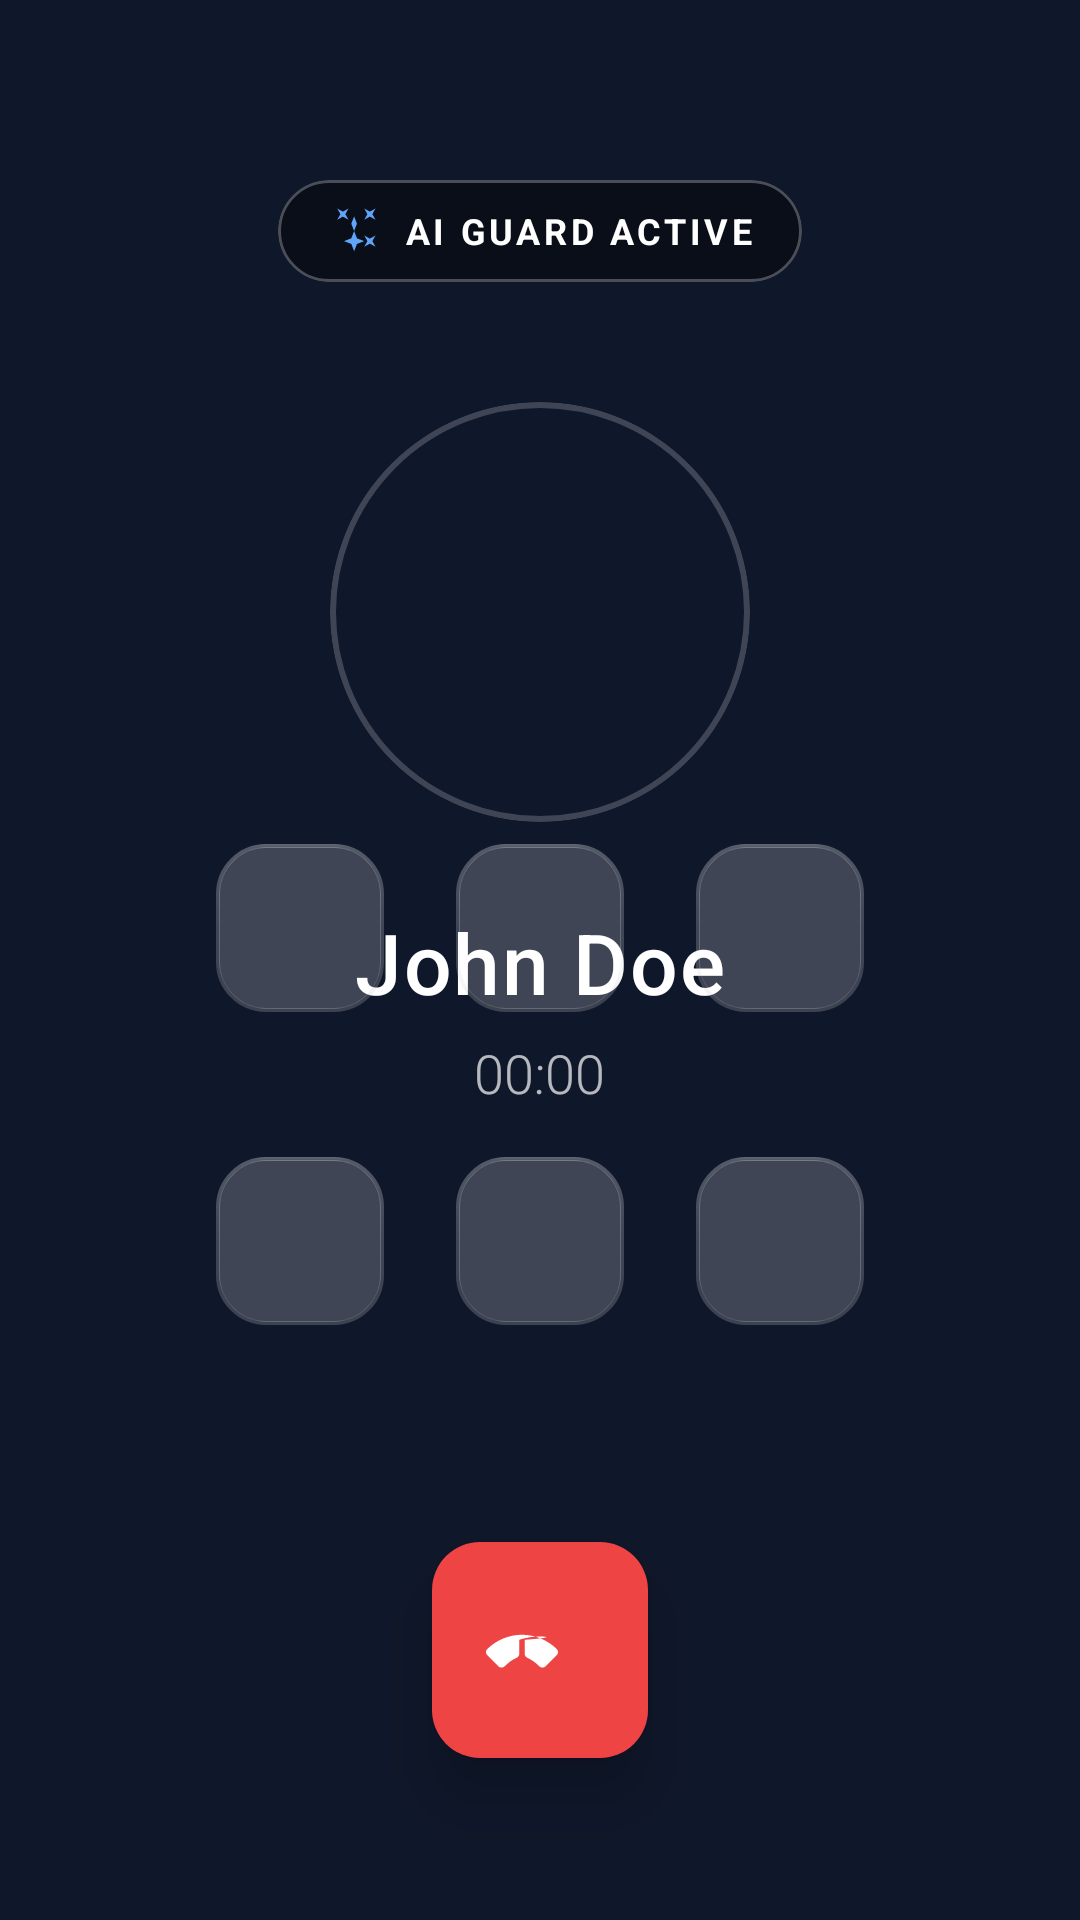

Screen size 1080px×1920px. Icon name, then its box in pixels as (x1, y1, x2, y2):
ai mode: (337, 208, 376, 251)
End Call: (432, 1542, 648, 1758)
